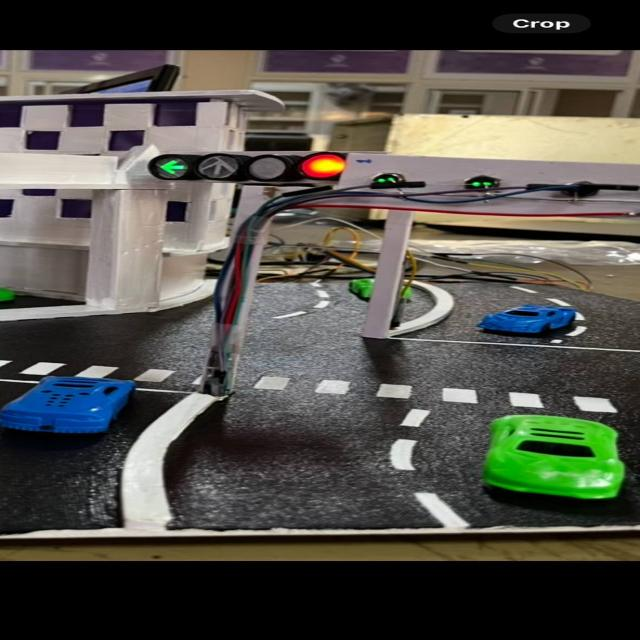car: (442, 406, 628, 512), (2, 368, 144, 446), (470, 296, 583, 348)
